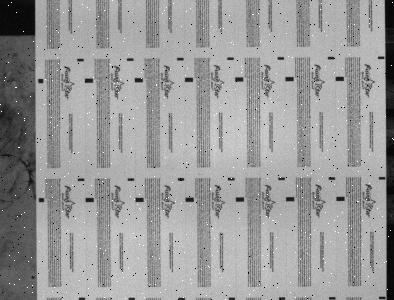backgroundclutter: (31, 276, 35, 279)
incorrect qblock: (38, 79, 44, 83), (38, 198, 44, 202)
qblock: (85, 197, 94, 202), (135, 197, 144, 202), (185, 197, 194, 202), (84, 78, 93, 83), (336, 196, 345, 201), (134, 77, 143, 82), (285, 76, 294, 81), (235, 77, 244, 82), (335, 76, 344, 81), (185, 77, 193, 82), (236, 197, 245, 201), (286, 197, 295, 201)
smallqblock: (177, 177, 185, 181), (378, 176, 386, 180), (277, 56, 284, 60), (177, 57, 184, 61), (327, 56, 335, 59), (127, 178, 135, 181), (328, 177, 336, 180), (227, 177, 235, 180), (278, 297, 286, 300), (77, 58, 84, 61), (127, 58, 134, 61), (227, 57, 234, 60), (77, 178, 84, 181), (278, 177, 285, 180), (378, 56, 385, 59), (128, 297, 135, 300), (228, 297, 235, 300), (78, 297, 85, 300), (178, 297, 185, 300), (329, 296, 336, 299), (379, 296, 386, 299)
